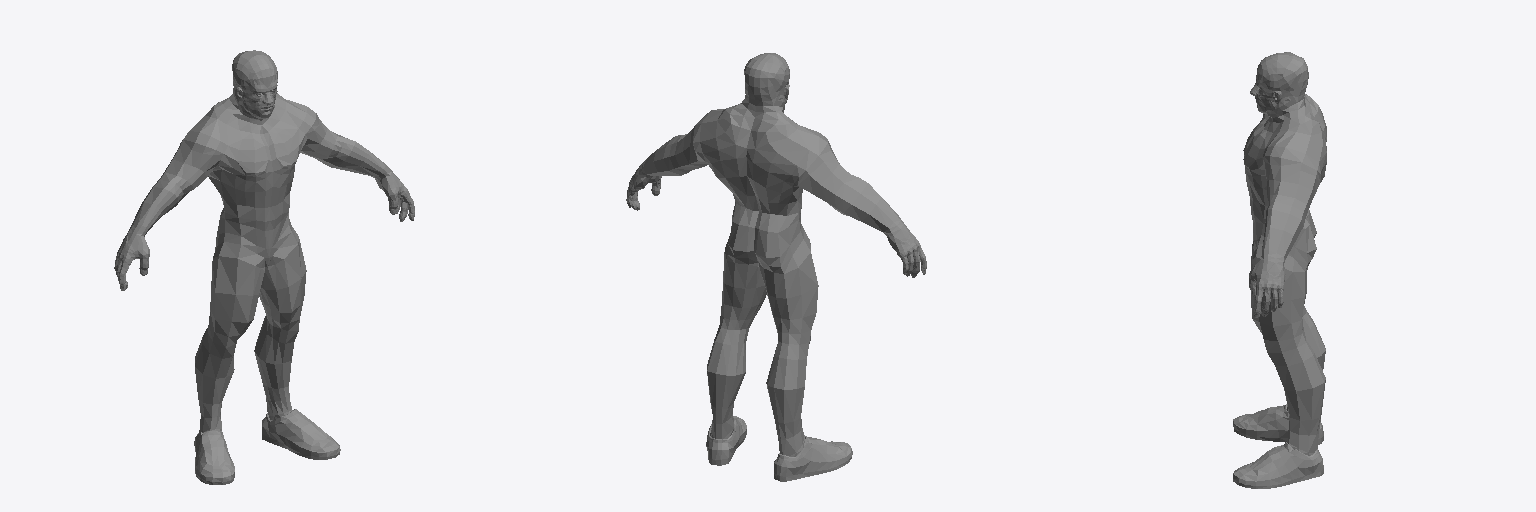
The model's file is Male_MMA_V01_OBJ.obj.
3 views of the same model, side by side, from view 1: azimuth 30°, elevation 25°; view 2: azimuth 150°, elevation 25°; view 3: azimuth 270°, elevation 25° (orthographic).
Visible parts, largest first — view 1: MMA_Dark_Skinned; view 2: MMA_Dark_Skinned; view 3: MMA_Dark_Skinned.
Boxes of the visible parts, box(x1,y1,x2,y2) form: MMA_Dark_Skinned: box(114, 50, 414, 484); MMA_Dark_Skinned: box(626, 53, 926, 481); MMA_Dark_Skinned: box(1233, 52, 1326, 488).
Size of the model in its own units: 161 by 211 by 44.73.